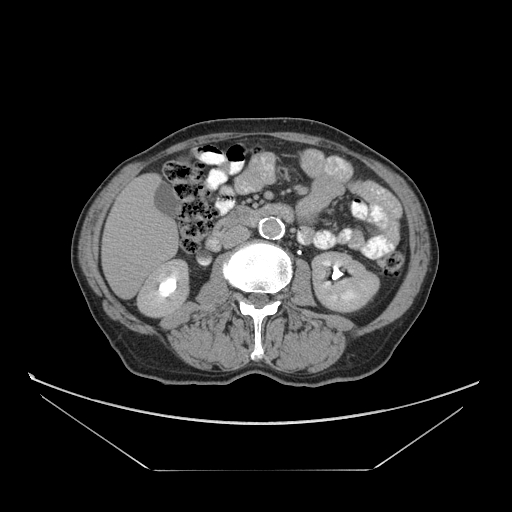left_kidney: (132, 253, 200, 319)
right_kidney: (303, 247, 383, 311)
